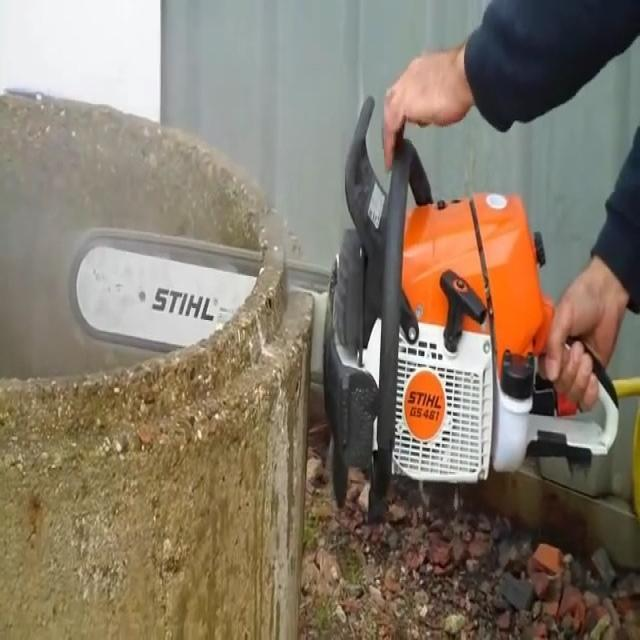Chainsaw: (49, 84, 628, 503)
